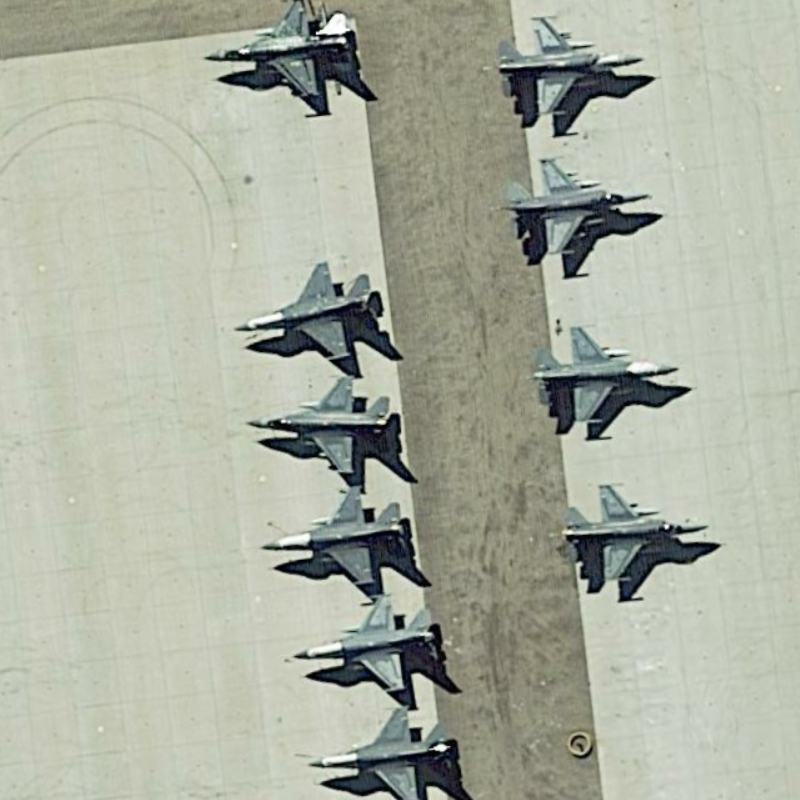A5: (490, 149, 657, 273), (559, 473, 716, 601), (191, 8, 369, 117), (223, 254, 387, 370), (285, 593, 459, 702), (519, 316, 681, 433), (486, 7, 641, 128), (257, 482, 426, 591), (248, 370, 408, 481), (302, 706, 471, 800)
